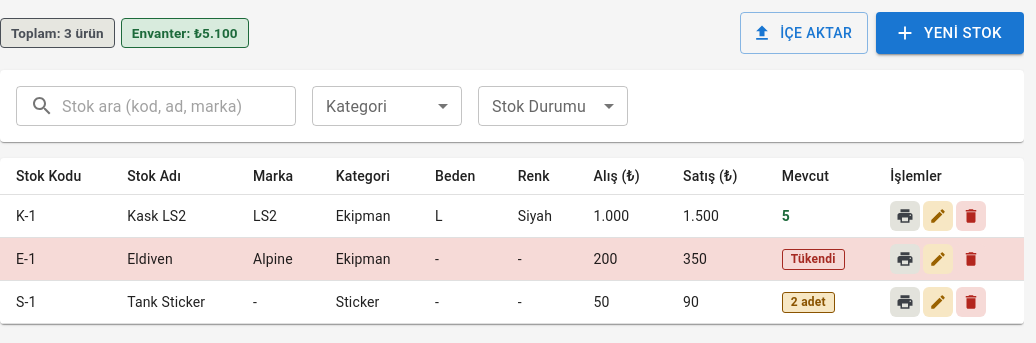
Scenario: Aksesuar Stok: arama › hızlı yazarken eski aramanın geç gelen yanıtı yenisinin üzerine yazmaz
Expected: the text "Kask LS2" is shown, [111,195,237,238]
Type "ka" into the field with placeholder "Stok ara (kod, ad, marka)" at (179, 106), box [62,86,296,126]
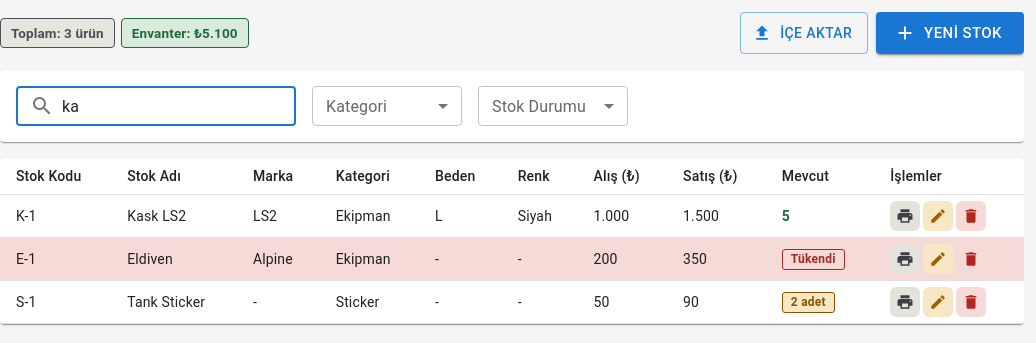
Type "s" into the field with placeholder "Stok ara (kod, ad, marka)" at (179, 106), box [62,86,296,126]
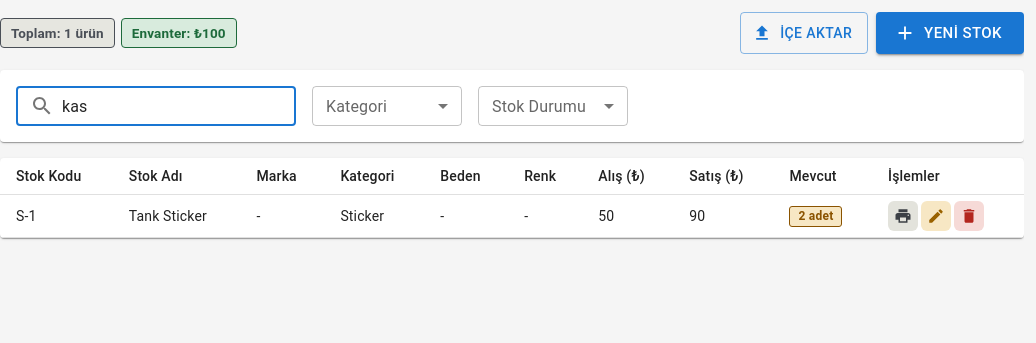
Expected: the text "Tank Sticker" is shown, [113,195,240,238]
Now the text "Kask LS2" is gone
